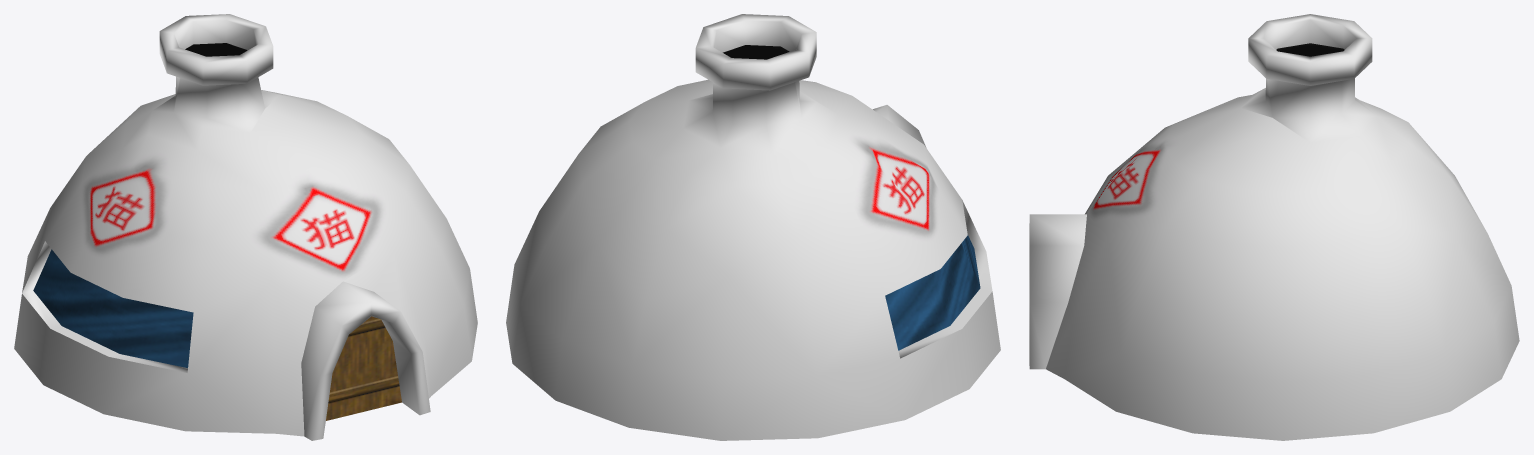
File: dbzhouse.fbx
3 renders of one model, left to right at view 1: azimuth 30°, elevation 25°; view 2: azimuth 150°, elevation 25°; view 3: azimuth 270°, elevation 25°, orthographic. The views are drawn at different scales.
Parts seen in each view (by area): view 1: SMDImport; view 2: SMDImport; view 3: SMDImport.
Boxes of the visible parts, x1=… form: SMDImport: x1=14, y1=14, x2=477, y2=440; SMDImport: x1=506, y1=14, x2=1000, y2=440; SMDImport: x1=1029, y1=14, x2=1519, y2=440.
Bounding box in the file's own units: 151 × 104 × 157.
